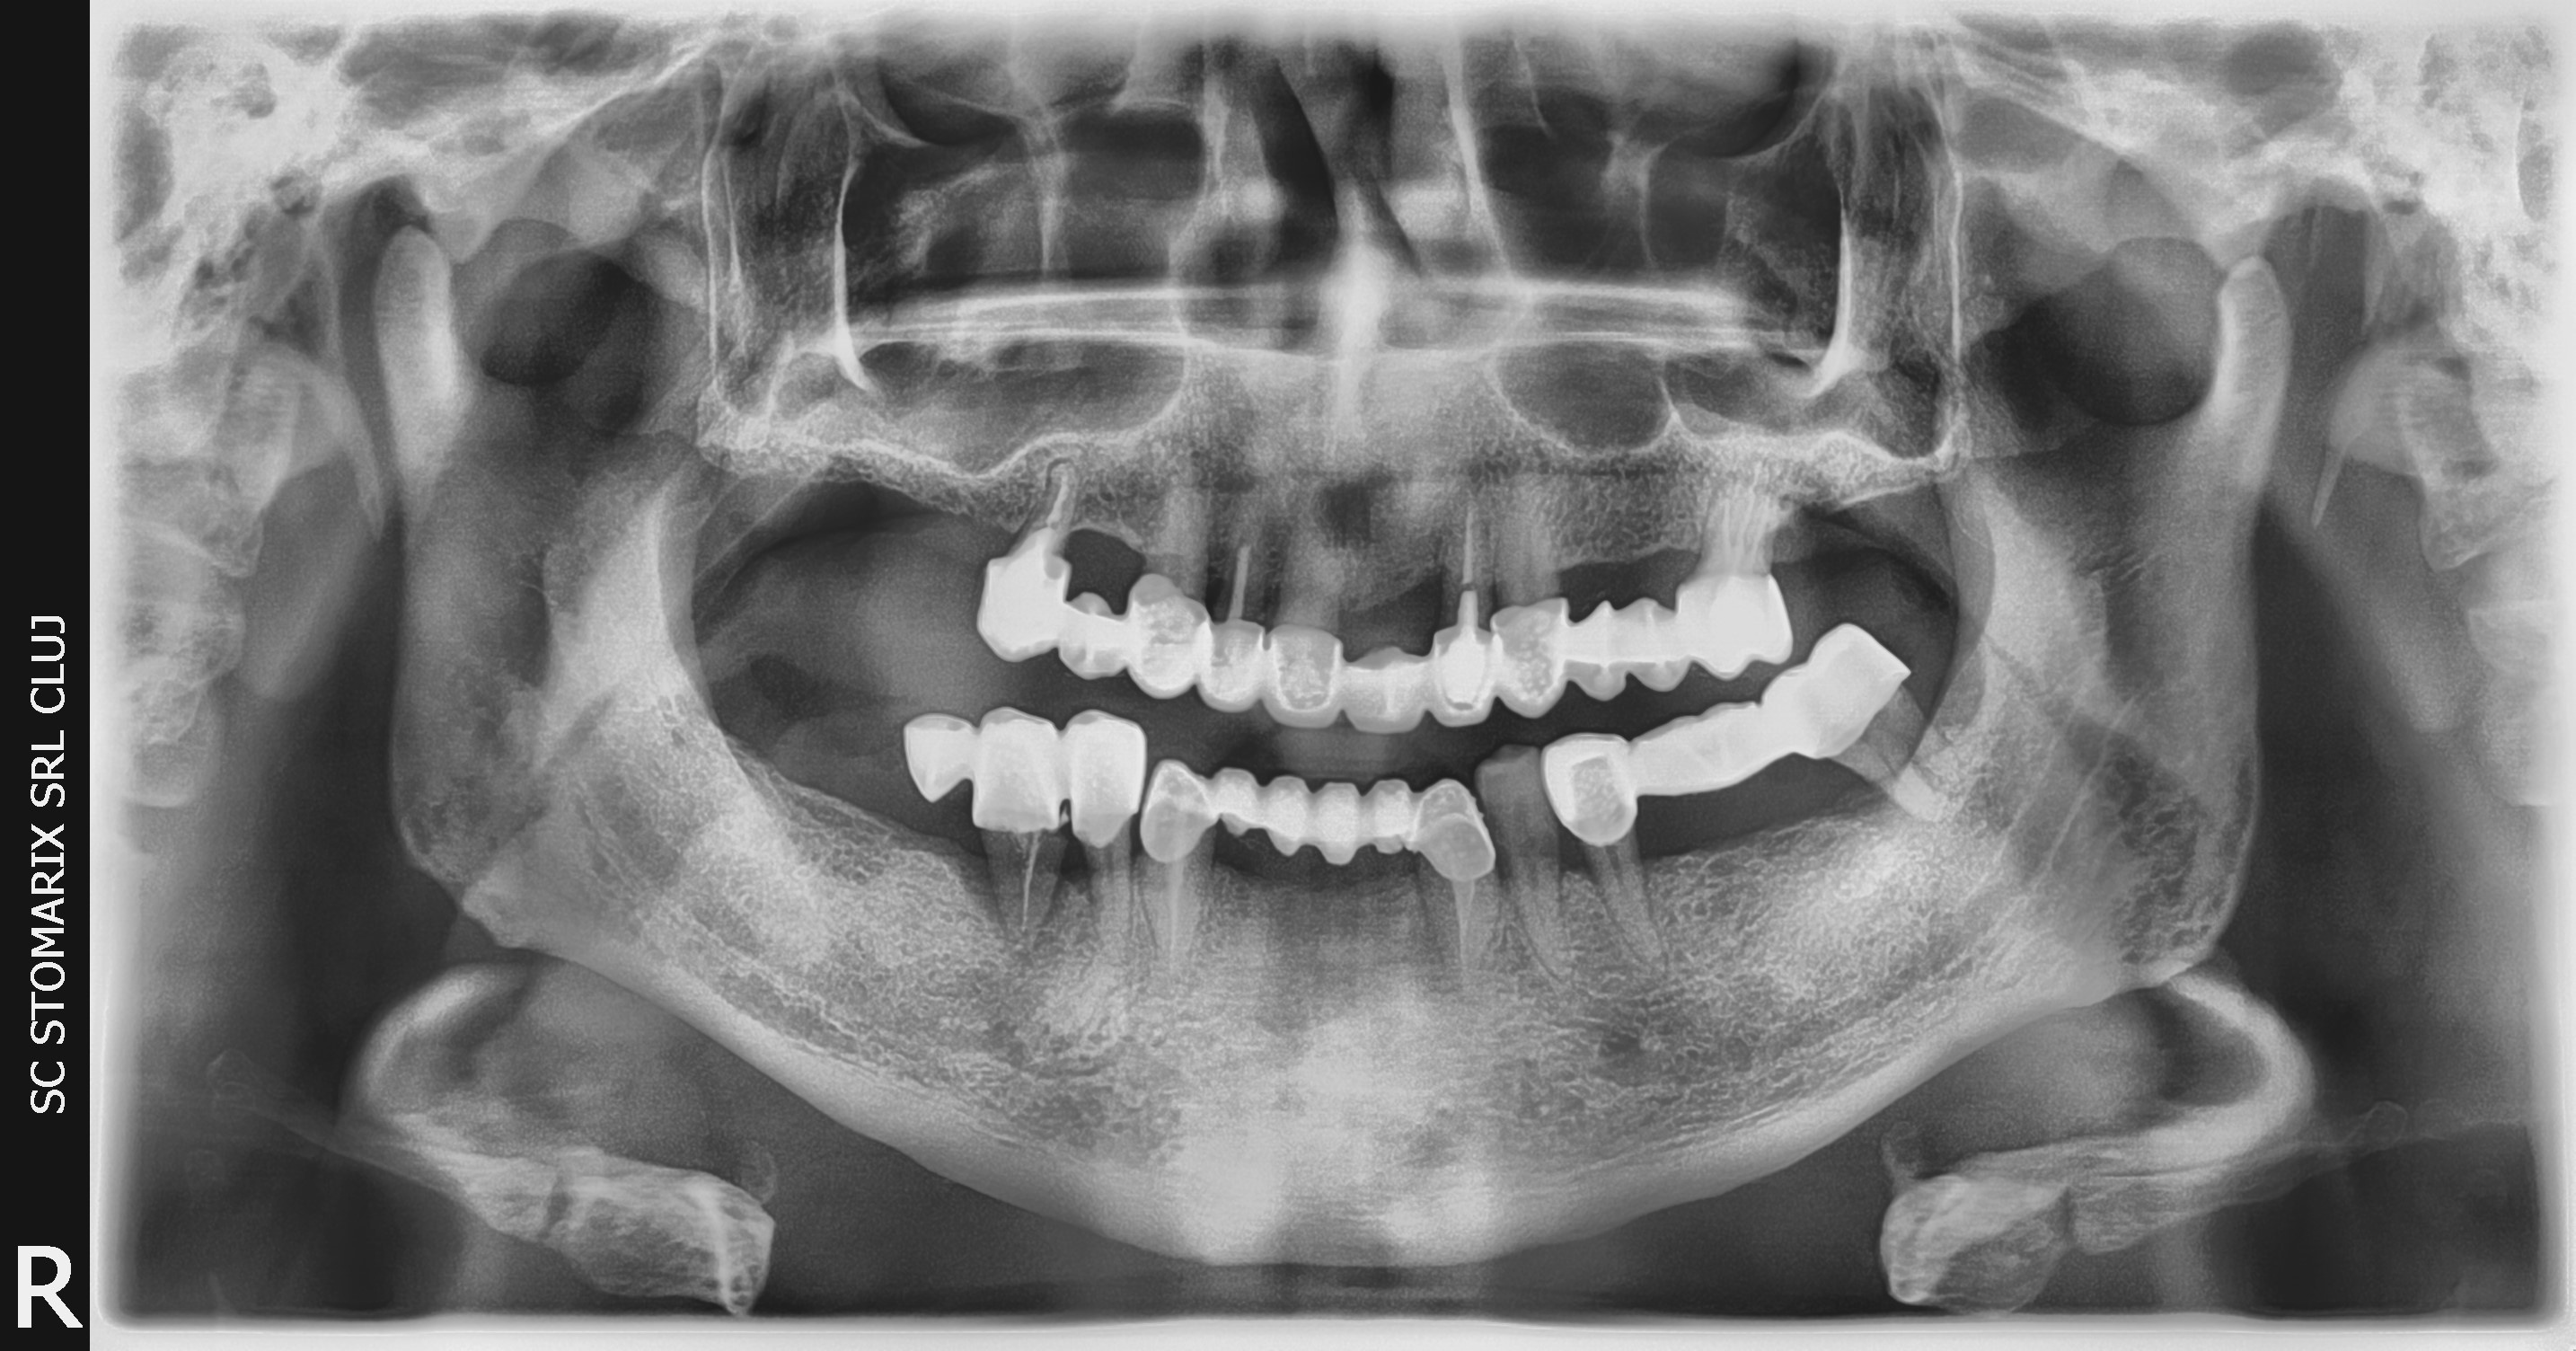BON: (929, 821, 1024, 940), (1818, 775, 1912, 836), (1044, 818, 1114, 891), (1554, 838, 1608, 900), (1049, 513, 1101, 574), (1189, 552, 1239, 615), (1315, 581, 1373, 630), (1249, 561, 1300, 615), (1130, 535, 1172, 583), (1547, 547, 1583, 600), (1423, 561, 1455, 607)
END: (1688, 440, 1787, 584), (1423, 876, 1496, 1010), (1436, 477, 1496, 615), (1136, 860, 1203, 983), (1012, 465, 1102, 549)
PRR: (959, 508, 1799, 763), (1525, 605, 1939, 884), (1113, 734, 1511, 910), (871, 670, 1167, 864)
